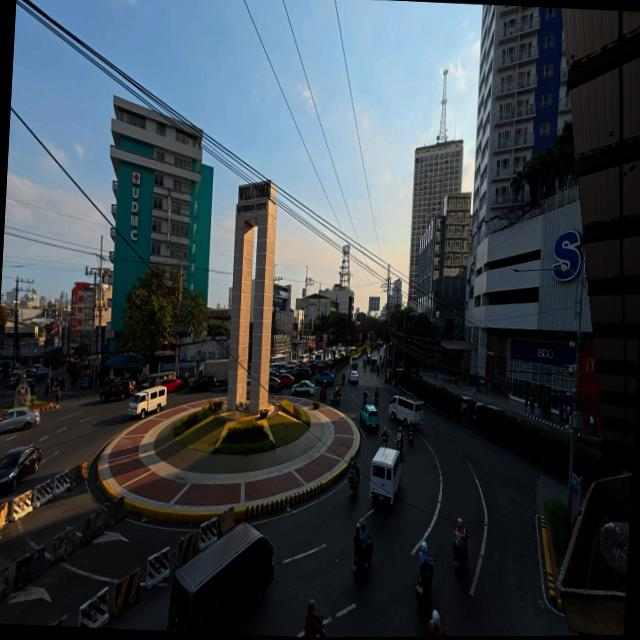Jeepneys: (136, 371, 175, 389), (370, 356, 378, 371)
car: (0, 445, 41, 493), (0, 407, 40, 433), (189, 373, 228, 392), (100, 380, 134, 401), (189, 374, 215, 392), (360, 405, 379, 429), (292, 380, 315, 395), (161, 377, 182, 393), (291, 367, 311, 382), (461, 396, 475, 417), (315, 371, 334, 385), (268, 376, 282, 394), (10, 371, 25, 387), (280, 374, 295, 387), (280, 364, 297, 375), (308, 362, 317, 377), (349, 371, 359, 383), (327, 358, 335, 365)
motorcycle: (415, 576, 431, 611), (453, 536, 465, 575), (353, 555, 366, 579), (313, 615, 325, 637), (348, 474, 358, 498), (367, 533, 373, 566), (331, 394, 340, 406), (408, 422, 413, 443), (59, 377, 66, 392), (182, 376, 190, 389), (396, 440, 403, 454), (382, 434, 388, 447), (320, 390, 327, 401), (363, 392, 368, 404), (443, 627, 448, 636), (375, 395, 379, 405), (342, 373, 345, 385), (364, 364, 366, 370)
vans: (167, 522, 274, 632), (371, 447, 401, 505), (129, 387, 167, 418), (389, 396, 423, 426), (351, 355, 359, 369)
